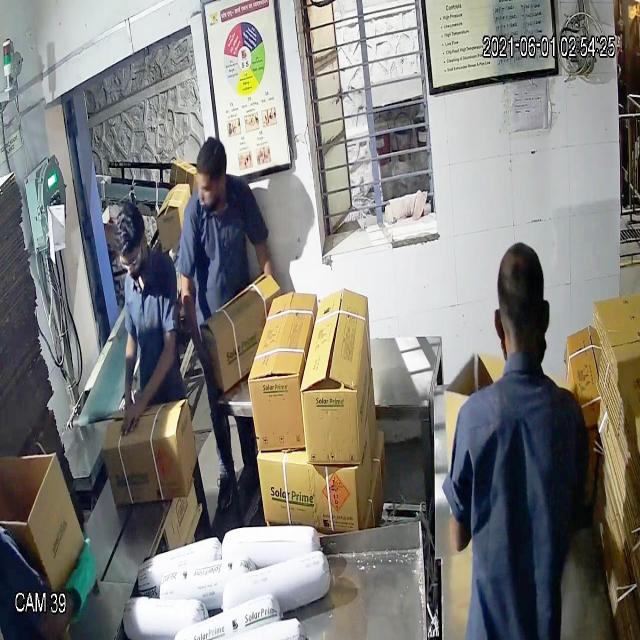glasses: (114, 237, 152, 282)
